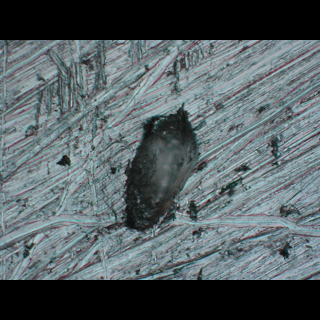d: (117, 103, 201, 238)
